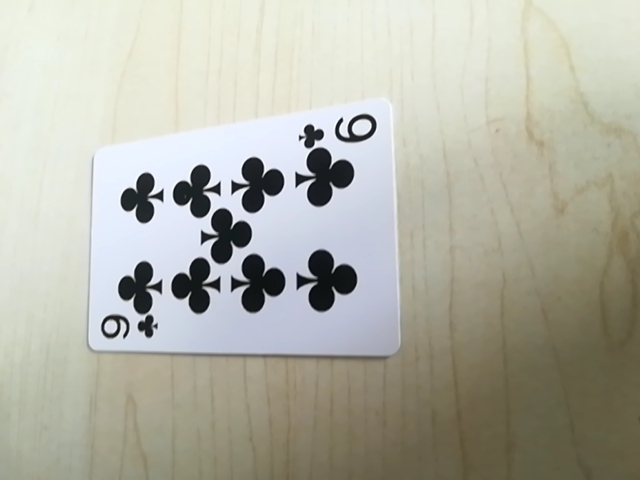mh 9: (299, 109, 380, 150), (97, 310, 158, 347)
